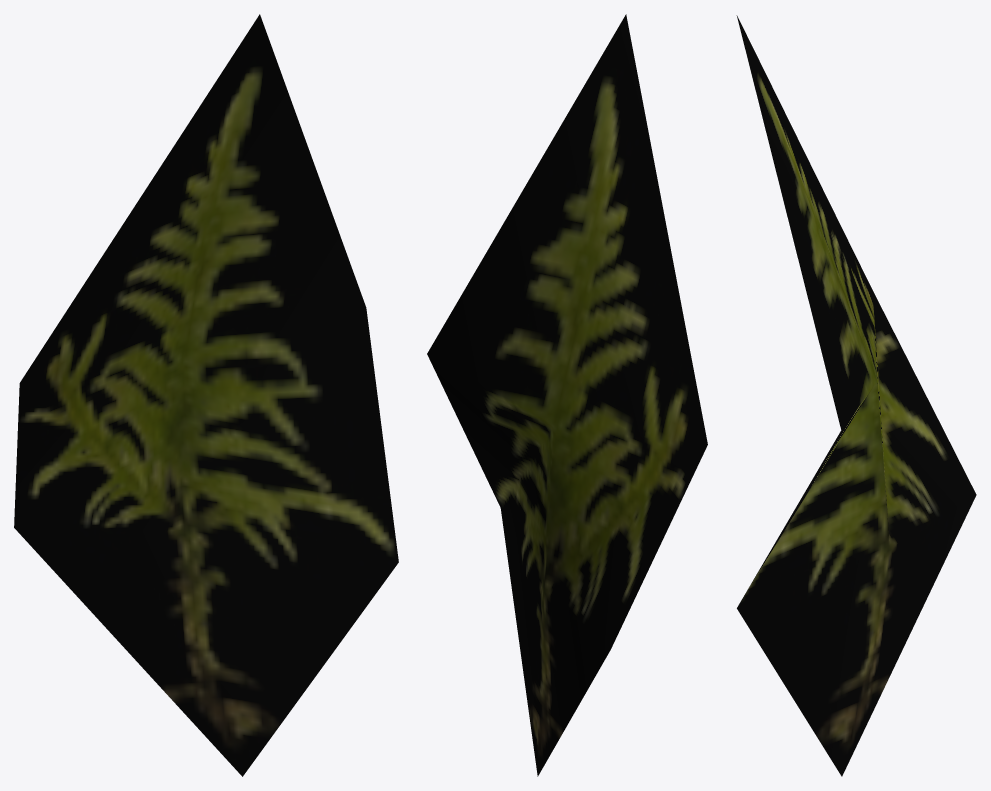
The picture shows the model from 3 angles, left to right: view 1: azimuth 30°, elevation 25°; view 2: azimuth 150°, elevation 25°; view 3: azimuth 270°, elevation 25°; orthographic projection. The views are drawn at different scales.
Parts seen in each view (by area): view 1: moss_01_c_LOD0; view 2: moss_01_c_LOD0; view 3: moss_01_c_LOD0.
Boxes of the visible parts, bbox=[...] form: moss_01_c_LOD0: bbox=[14, 14, 398, 776]; moss_01_c_LOD0: bbox=[427, 14, 707, 776]; moss_01_c_LOD0: bbox=[736, 15, 976, 776].
Bounding box in the file's own units: 0.0262 × 0.062 × 0.0181.
1 material, 1 textured.
